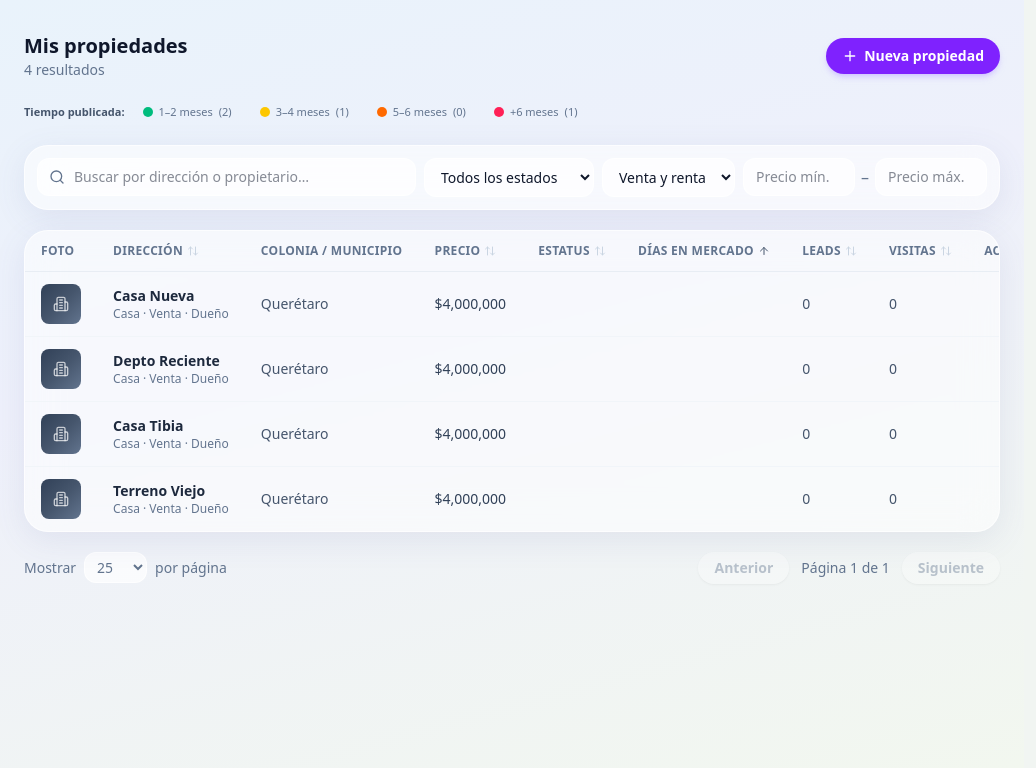
it: Propiedades — llegada filtrada por antigüedad › la leyenda del termómetro filtra y se puede desactivar tocándola otra vez
This screenshot has width=1036, height=768.
Click the button with aria-label "Filtrar propiedades con 3–4 meses". click: (304, 112)
box: [250,100,359,124]
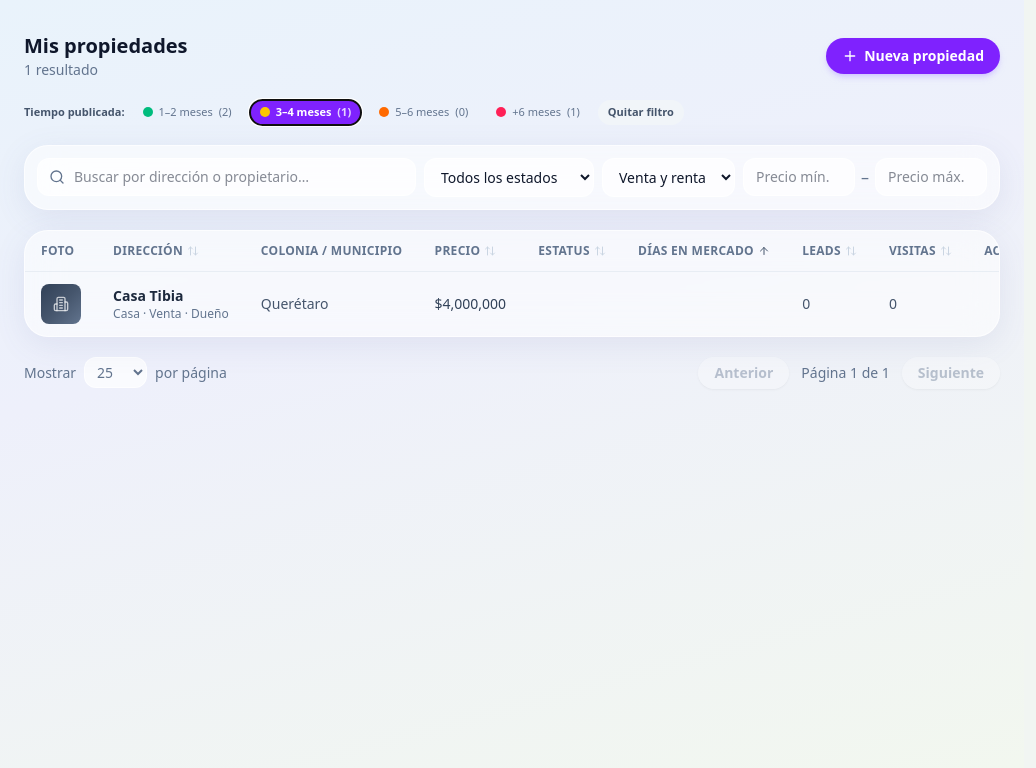
expect the text "1 resultado" is shown: met, box [24,60,98,79]
Click the button with aria-label "Filtrar propiedades con 3–4 meses". click: (305, 112)
box: [250,100,361,124]
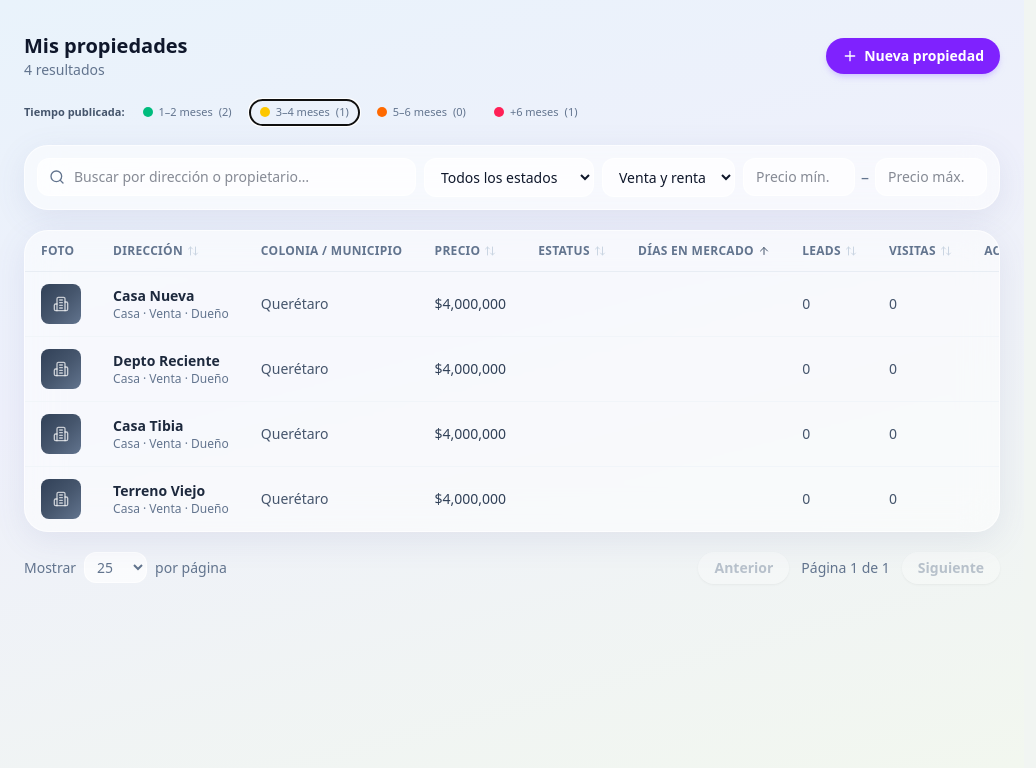
expect the text "4 resultados" is shown: met, box [24,60,105,79]
